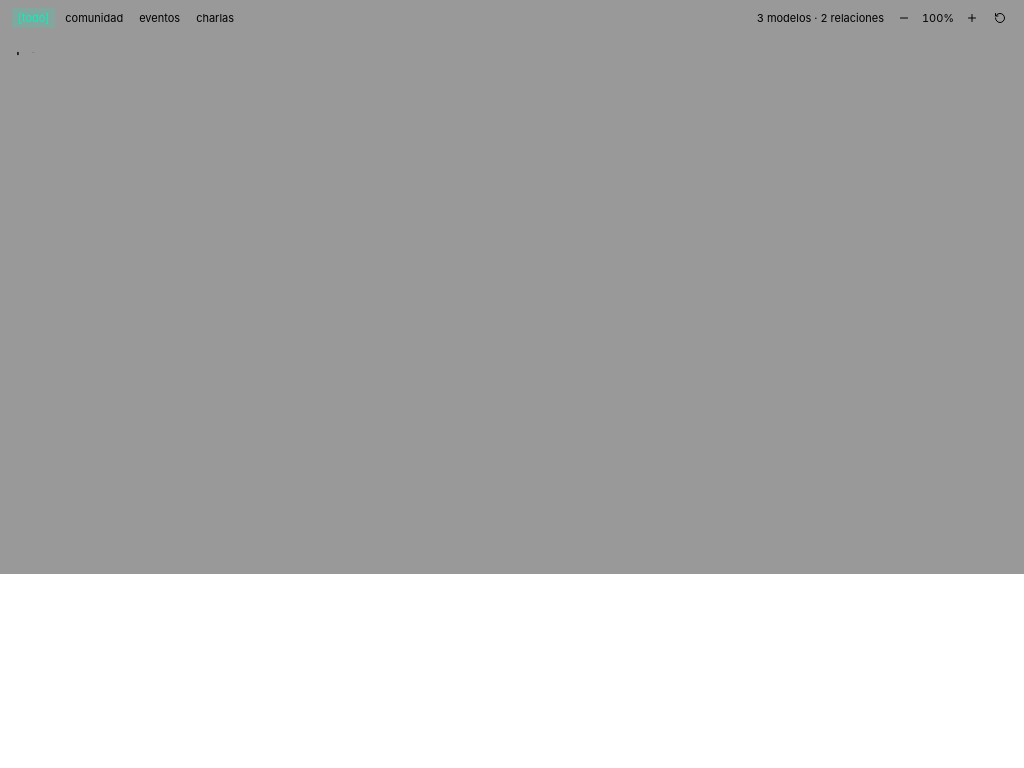
it: DbDiagram › keeps 100% without a viewBox and reports render errors
The width and height of the screenshot is (1024, 768).
Check: the text "100%" is shown, box [920, 10, 956, 26]
Click the tab "charlas" at [215, 18], box [190, 8, 240, 28]
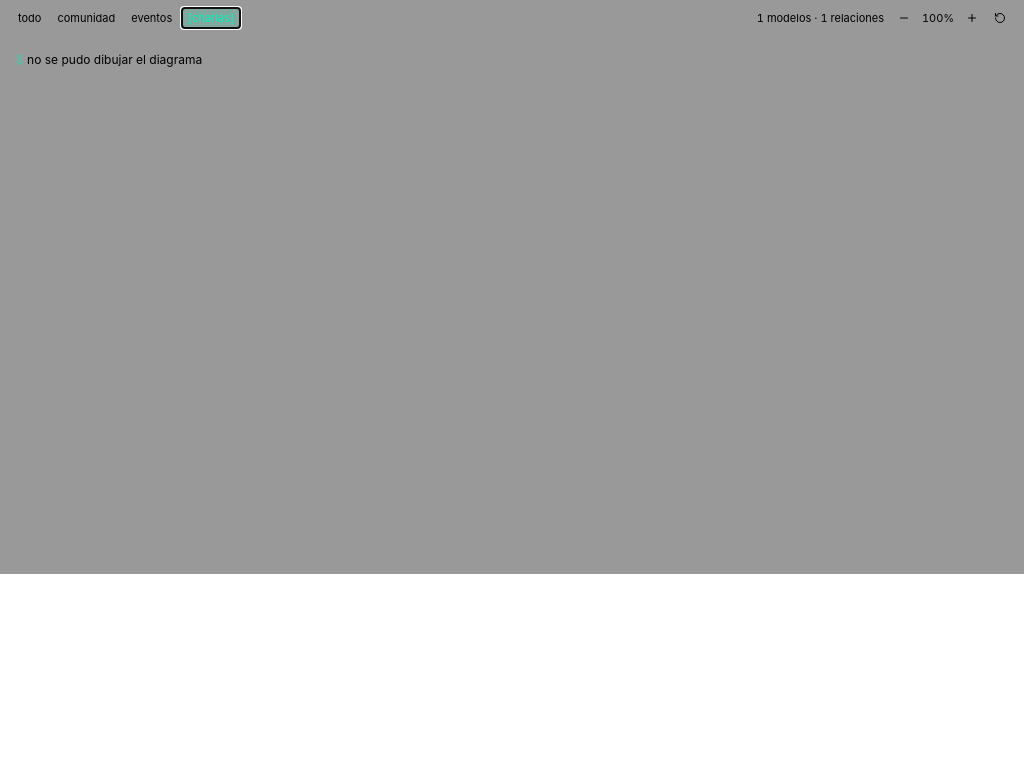
Check: the text "no se pudo dibujar el diagrama" is shown, box [27, 52, 202, 67]
